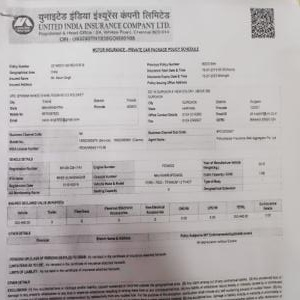image: (7, 8, 36, 42)
table: (9, 88, 279, 127), (6, 161, 283, 198), (6, 199, 286, 225), (6, 128, 281, 153), (9, 59, 235, 88)
text: (38, 6, 172, 41), (4, 251, 170, 273), (87, 44, 202, 58)
